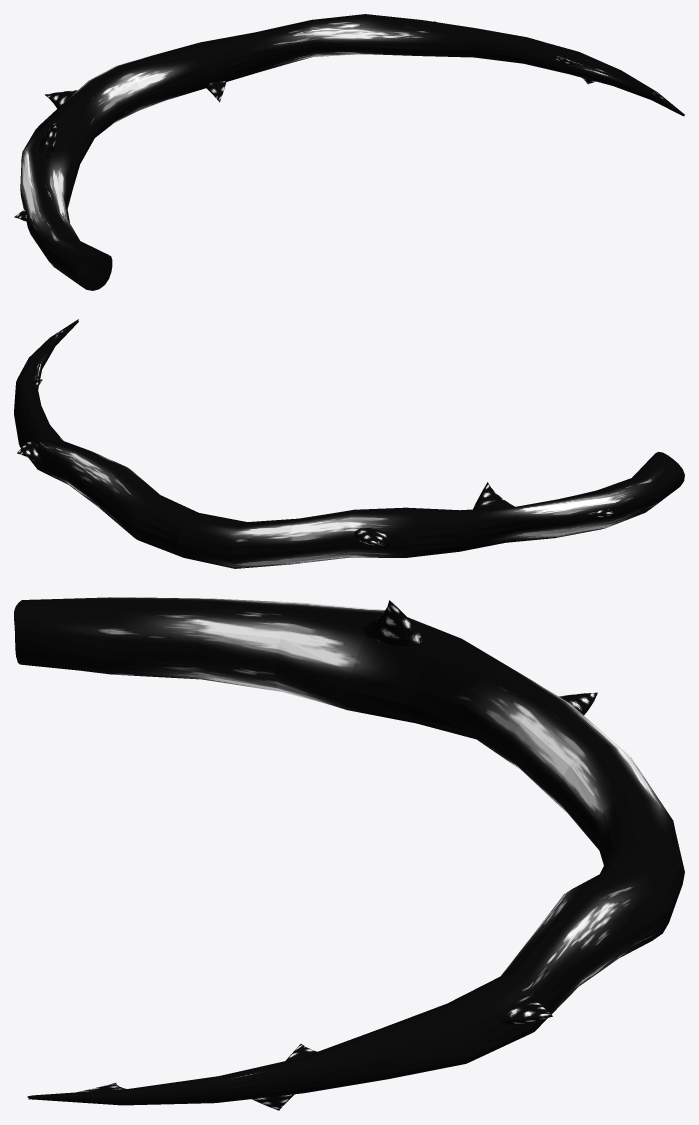
File: 0061_HT_FX_YeYiBu_manteng.glb
3 renders of one model, top to bottom at view 1: azimuth 30°, elevation 25°; view 2: azimuth 150°, elevation 25°; view 3: azimuth 270°, elevation 25°, orthographic. The views are drawn at different scales.
Bounding box in the file's own units: 2.2 × 0.2805 × 1.24.
1 material, 1 textured.
